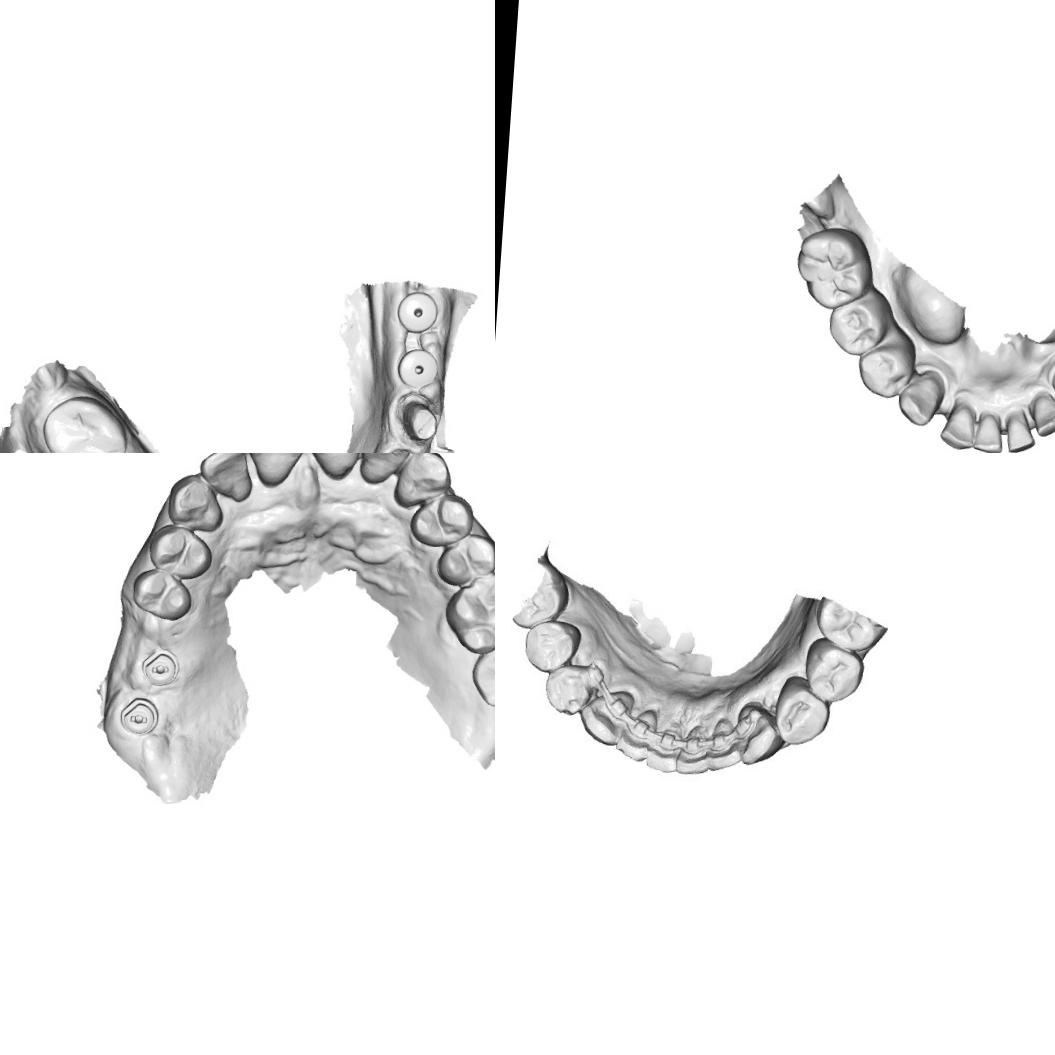canine: (164, 471, 227, 532), (543, 660, 602, 720), (397, 453, 453, 512), (892, 372, 943, 427), (734, 706, 780, 761)
crown: (389, 389, 442, 444)
implant: (392, 344, 442, 392), (393, 288, 442, 336)
implant_minus: (138, 643, 181, 690), (116, 693, 160, 736)
incisor: (196, 453, 255, 501), (580, 691, 630, 744), (240, 453, 307, 488), (301, 453, 369, 485), (705, 722, 743, 774), (937, 402, 976, 452), (618, 706, 656, 756), (358, 453, 412, 488), (649, 724, 688, 772), (678, 722, 712, 774), (1001, 411, 1036, 453), (971, 410, 1005, 453), (1027, 391, 1055, 438)
molar: (791, 224, 876, 312), (37, 392, 130, 453), (440, 569, 495, 657), (468, 634, 495, 710)
premolar: (145, 521, 216, 580), (826, 294, 890, 358), (406, 491, 476, 548), (128, 566, 196, 623), (854, 338, 914, 401), (434, 530, 495, 589), (522, 619, 579, 675), (805, 644, 859, 702), (776, 680, 829, 739)
